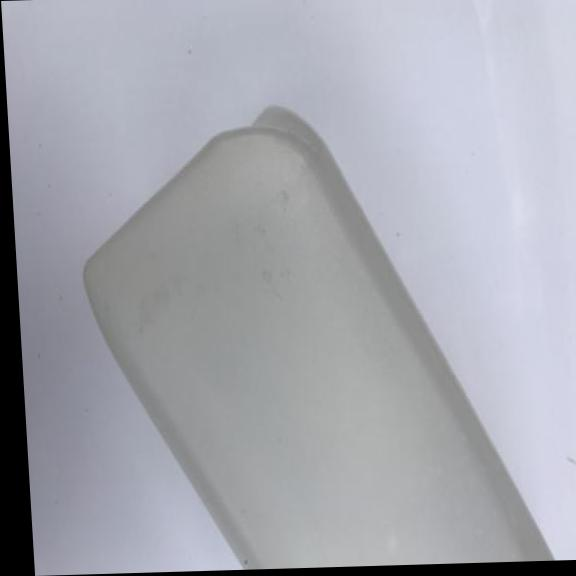Plastik: (65, 90, 562, 574)
